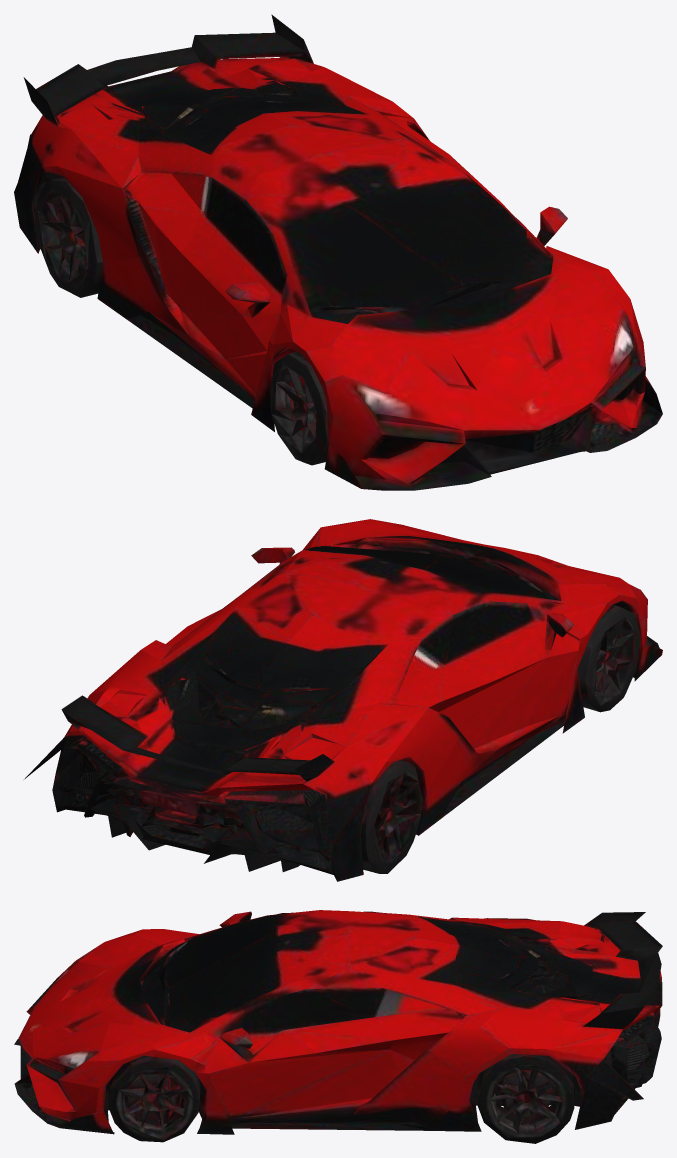
File: apex_hero.glb
3 renders of one model, top to bottom at view 1: azimuth 30°, elevation 25°; view 2: azimuth 150°, elevation 25°; view 3: azimuth 270°, elevation 25°, orthographic. The views are drawn at different scales.
Size of the model in its own units: 0.8484 by 0.4397 by 1.74.
1 material, 1 textured.
